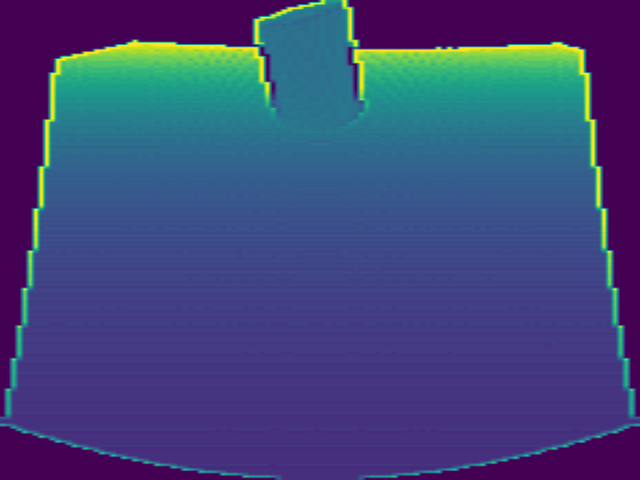cylinder: (250, 1, 363, 129)
